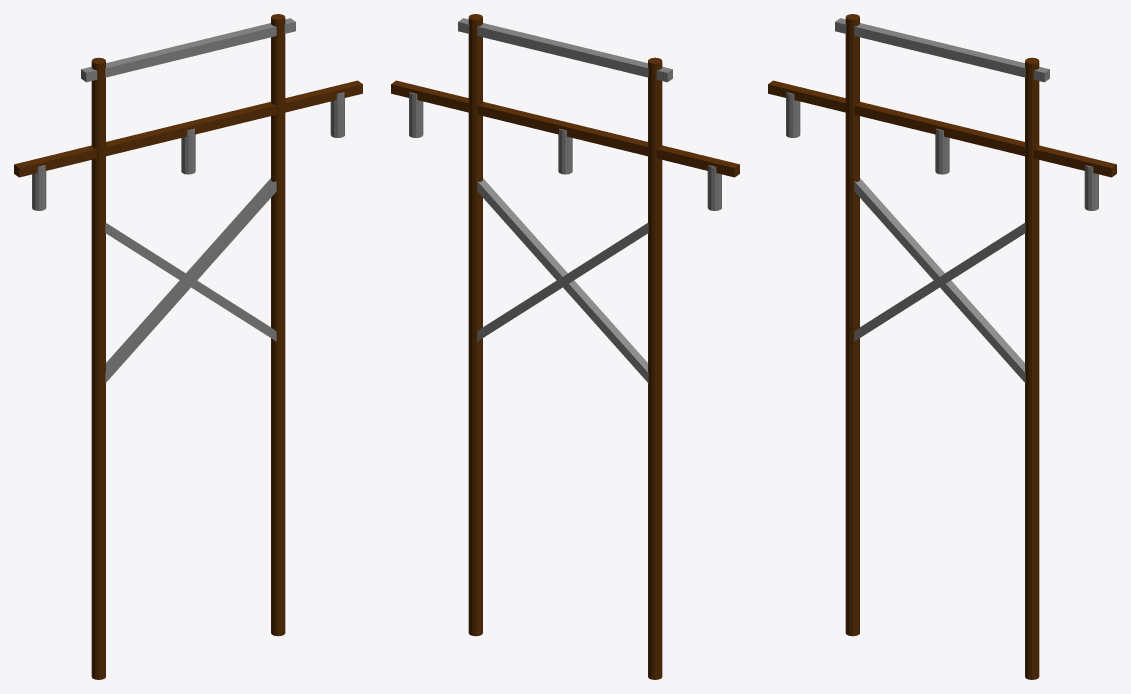
The model's file is lp_powerlineMediam(Scaled)Coloured.fbx.
The picture shows the model from 3 angles, left to right: view 1: azimuth 30°, elevation 25°; view 2: azimuth 150°, elevation 25°; view 3: azimuth 330°, elevation 25°; orthographic projection.
Visible parts, largest first — view 1: Cylinder.000, Cylinder.007, Cube, Cube.003, Cube.001, Cube.002, Cylinder.002, Cylinder.003, Cylinder.001; view 2: Cylinder.000, Cylinder.007, Cube, Cube.003, Cube.001, Cube.002, Cylinder.002, Cylinder.003, Cylinder.001; view 3: Cylinder.007, Cylinder.000, Cube, Cube.002, Cube.001, Cube.003, Cylinder.001, Cylinder.003, Cylinder.002.
Boxes of the visible parts, bbox=[...] form: Cylinder.000: bbox=[91, 57, 105, 679]; Cylinder.007: bbox=[271, 14, 285, 636]; Cube: bbox=[14, 80, 362, 177]; Cube.003: bbox=[105, 178, 276, 382]; Cube.001: bbox=[81, 18, 295, 82]; Cube.002: bbox=[105, 223, 276, 341]; Cylinder.002: bbox=[32, 165, 46, 210]; Cylinder.003: bbox=[181, 128, 195, 174]; Cylinder.001: bbox=[330, 92, 344, 137]; Cylinder.000: bbox=[648, 57, 662, 679]; Cylinder.007: bbox=[468, 14, 482, 636]; Cube: bbox=[391, 80, 739, 177]; Cube.003: bbox=[477, 178, 648, 382]; Cube.001: bbox=[458, 18, 672, 82]; Cube.002: bbox=[477, 223, 648, 341]; Cylinder.002: bbox=[707, 165, 721, 210]; Cylinder.003: bbox=[558, 128, 572, 174]; Cylinder.001: bbox=[409, 92, 423, 137]; Cylinder.007: bbox=[1025, 57, 1039, 679]; Cylinder.000: bbox=[845, 14, 859, 636]; Cube: bbox=[768, 80, 1116, 177]; Cube.002: bbox=[854, 178, 1025, 382]; Cube.001: bbox=[835, 18, 1049, 82]; Cube.003: bbox=[854, 223, 1025, 341]; Cylinder.001: bbox=[1084, 165, 1098, 210]; Cylinder.003: bbox=[935, 128, 949, 174]; Cylinder.002: bbox=[786, 92, 800, 137].
Bounding box in the file's own units: 838 × 1435 × 30.25.
